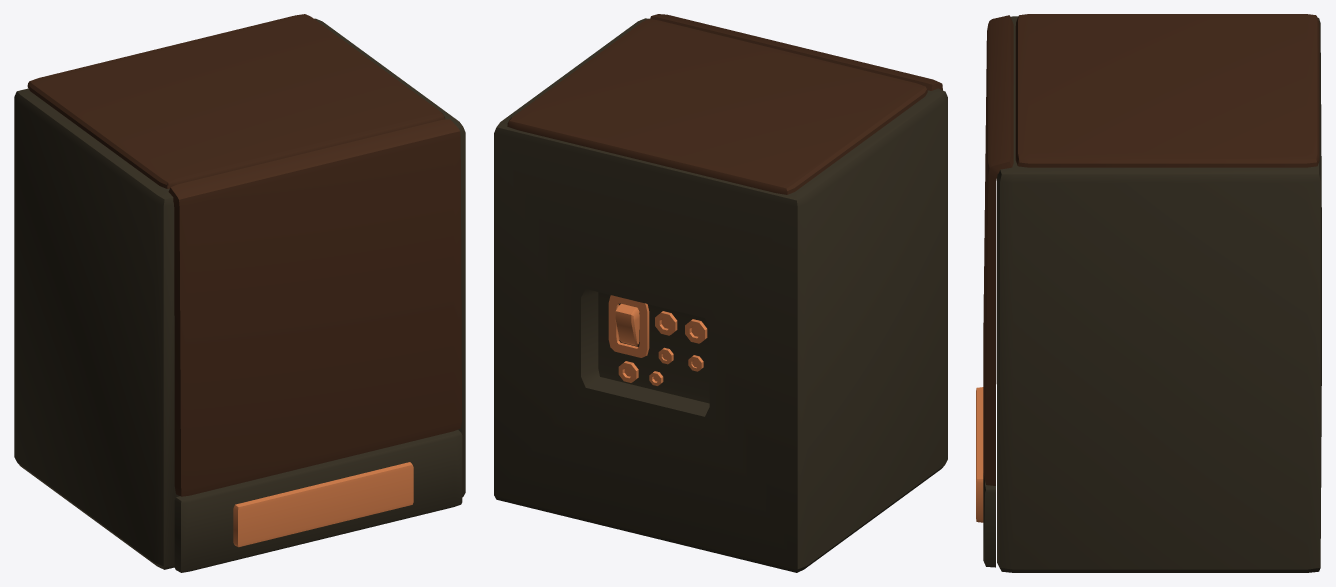
The model's file is Bass_Box.fbx.
The picture shows the model from 3 angles, left to right: view 1: azimuth 30°, elevation 25°; view 2: azimuth 150°, elevation 25°; view 3: azimuth 270°, elevation 25°; orthographic projection. The views are drawn at different scales.
Visible parts, largest first — view 1: Bass_Box; view 2: Bass_Box; view 3: Bass_Box.
Part boxes in pixels (x1,y1,x2,y2): Bass_Box: (14,14,465,572); Bass_Box: (494,14,947,572); Bass_Box: (976,14,1321,572).
Bounding box in the file's own units: 38.14 × 44.99 × 34.48.
